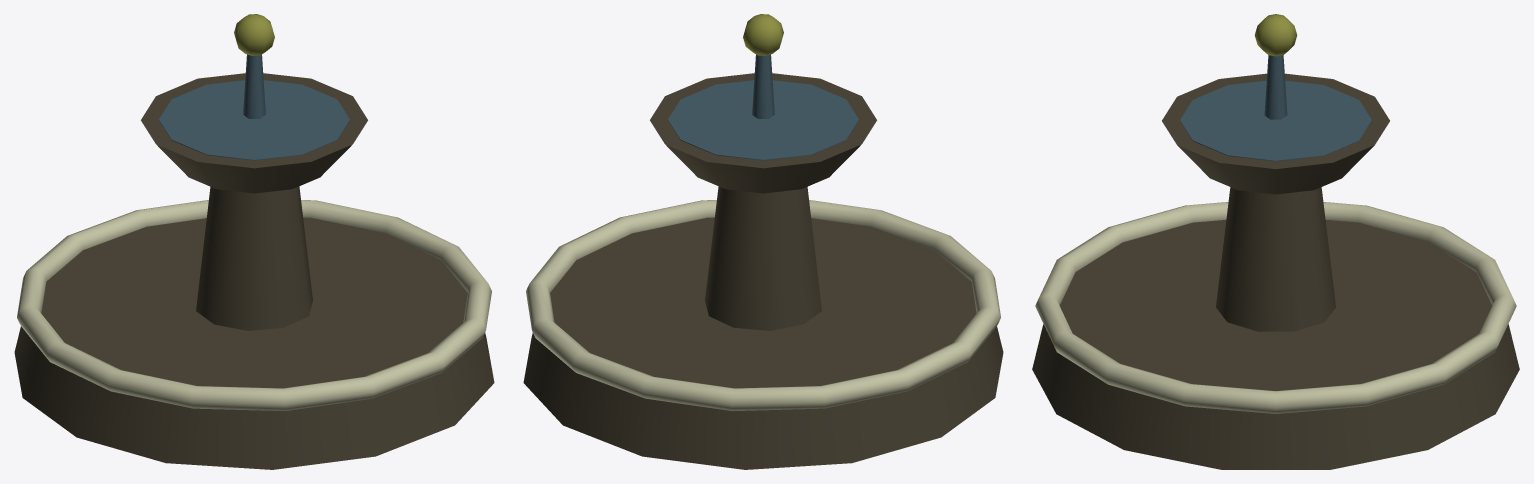
The model's file is village_fountain.glb.
3 views of the same model, side by side, from view 1: azimuth 30°, elevation 25°; view 2: azimuth 150°, elevation 25°; view 3: azimuth 270°, elevation 25° (orthographic).
Visible parts, largest first — view 1: ft_basin, ft_rim, ft_pedestal, ft_bowl_water, ft_bowl, ft_finial, ft_jet; view 2: ft_basin, ft_rim, ft_pedestal, ft_bowl_water, ft_bowl, ft_finial, ft_jet; view 3: ft_basin, ft_rim, ft_pedestal, ft_bowl_water, ft_bowl, ft_finial, ft_jet.
Boxes of the visible parts, <box> form: ft_basin: <box>14,217,494,469</box>; ft_rim: <box>17,200,491,410</box>; ft_pedestal: <box>196,186,312,330</box>; ft_bowl_water: <box>159,80,349,160</box>; ft_bowl: <box>141,73,367,193</box>; ft_finial: <box>234,14,274,55</box>; ft_jet: <box>243,54,265,118</box>; ft_basin: <box>523,217,1003,469</box>; ft_rim: <box>526,200,1000,410</box>; ft_pedestal: <box>705,186,821,330</box>; ft_bowl_water: <box>668,80,858,160</box>; ft_bowl: <box>650,73,876,193</box>; ft_finial: <box>743,14,783,55</box>; ft_jet: <box>752,54,774,118</box>; ft_basin: <box>1032,220,1519,469</box>; ft_rim: <box>1035,202,1516,413</box>; ft_pedestal: <box>1216,187,1335,331</box>; ft_bowl_water: <box>1180,80,1371,161</box>; ft_bowl: <box>1162,73,1389,194</box>; ft_finial: <box>1254,14,1297,56</box>; ft_jet: <box>1264,55,1287,119</box>.
Bounding box in the file's own units: 3.16 × 2.56 × 3.2.
